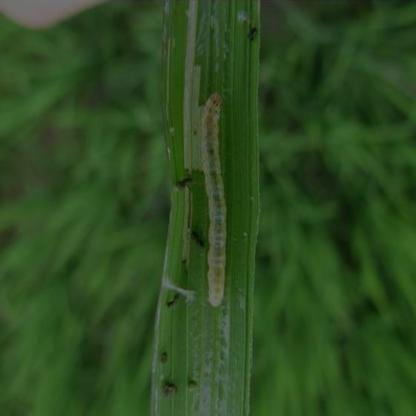leaf-folder: (188, 88, 239, 314)
